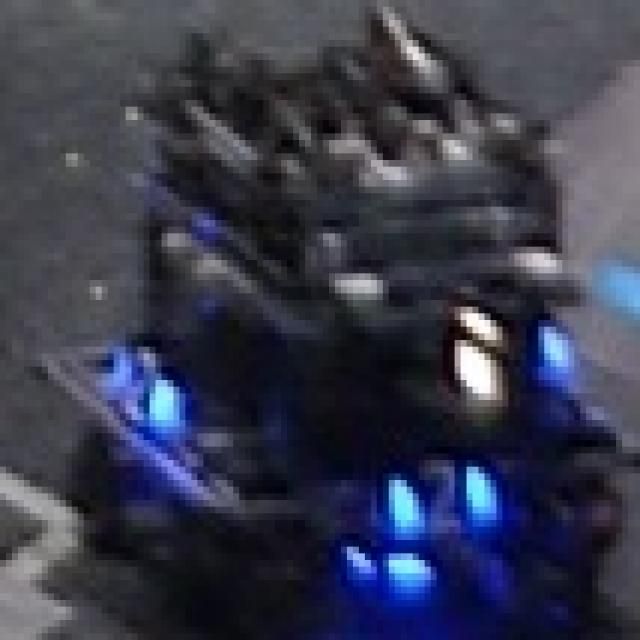B2: (383, 453, 502, 540), (102, 333, 185, 440)
